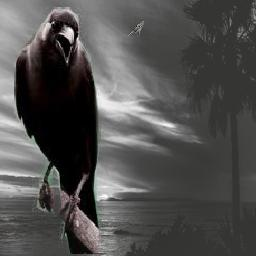Crow: (15, 8, 102, 255)
Sparrow: (128, 20, 145, 36)
